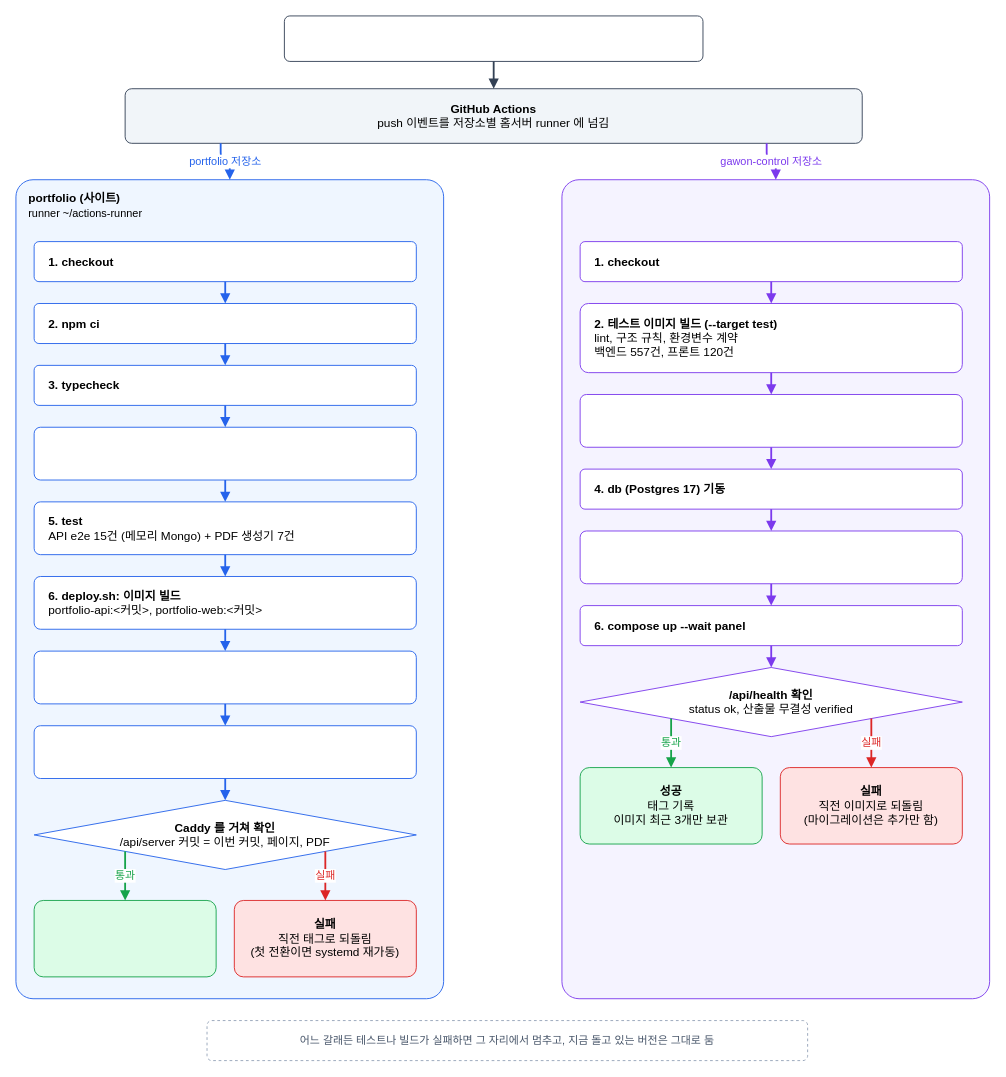
This 1006x1077 diagram has some shape labels left out. Here are the shapes that lost their labels. From the top down, the box of each, then its label:
(283, 15, 703, 61): Mac 에서 git push origin main
(579, 394, 962, 447): 3. 운영 이미지 빌드 gawon-control:<커밋> + 릴리스 매니페스트
(33, 426, 416, 480): 4. build API 빌드 + portfolio.html 로 포트폴리오 PDF 생성
(579, 530, 962, 584): 5. 마이그레이션 migrate-control-db.mjs, 이미 적용된 것은 건너뜀
(561, 179, 990, 999): gawon-control (관리 패널) runner ~/actions-runner-control
(33, 650, 416, 704): 7. mongo 준비 앱 계정, 백업용 읽기 전용 계정 확인
(33, 725, 416, 779): 8. compose up --wait web, api, mongo 헬스체크까지 대기
(33, 900, 216, 977): 성공 태그 기록 ~/portfolio/docker-release 이미지 최근 3개만 보관
